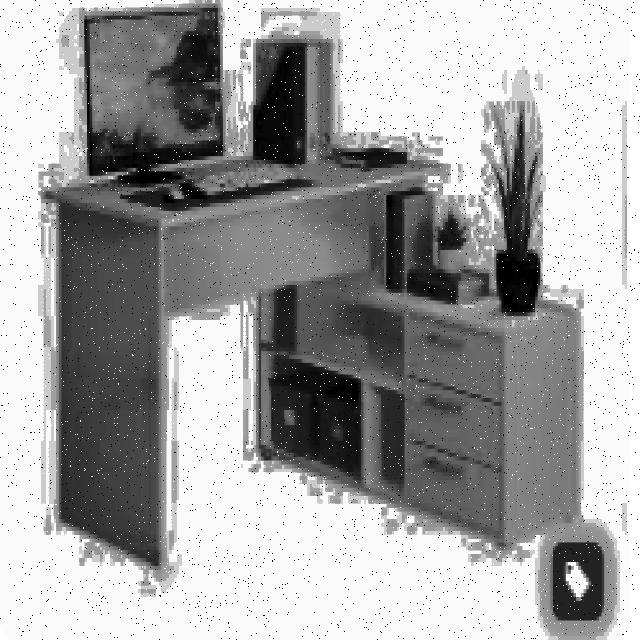table: (43, 148, 443, 566)
